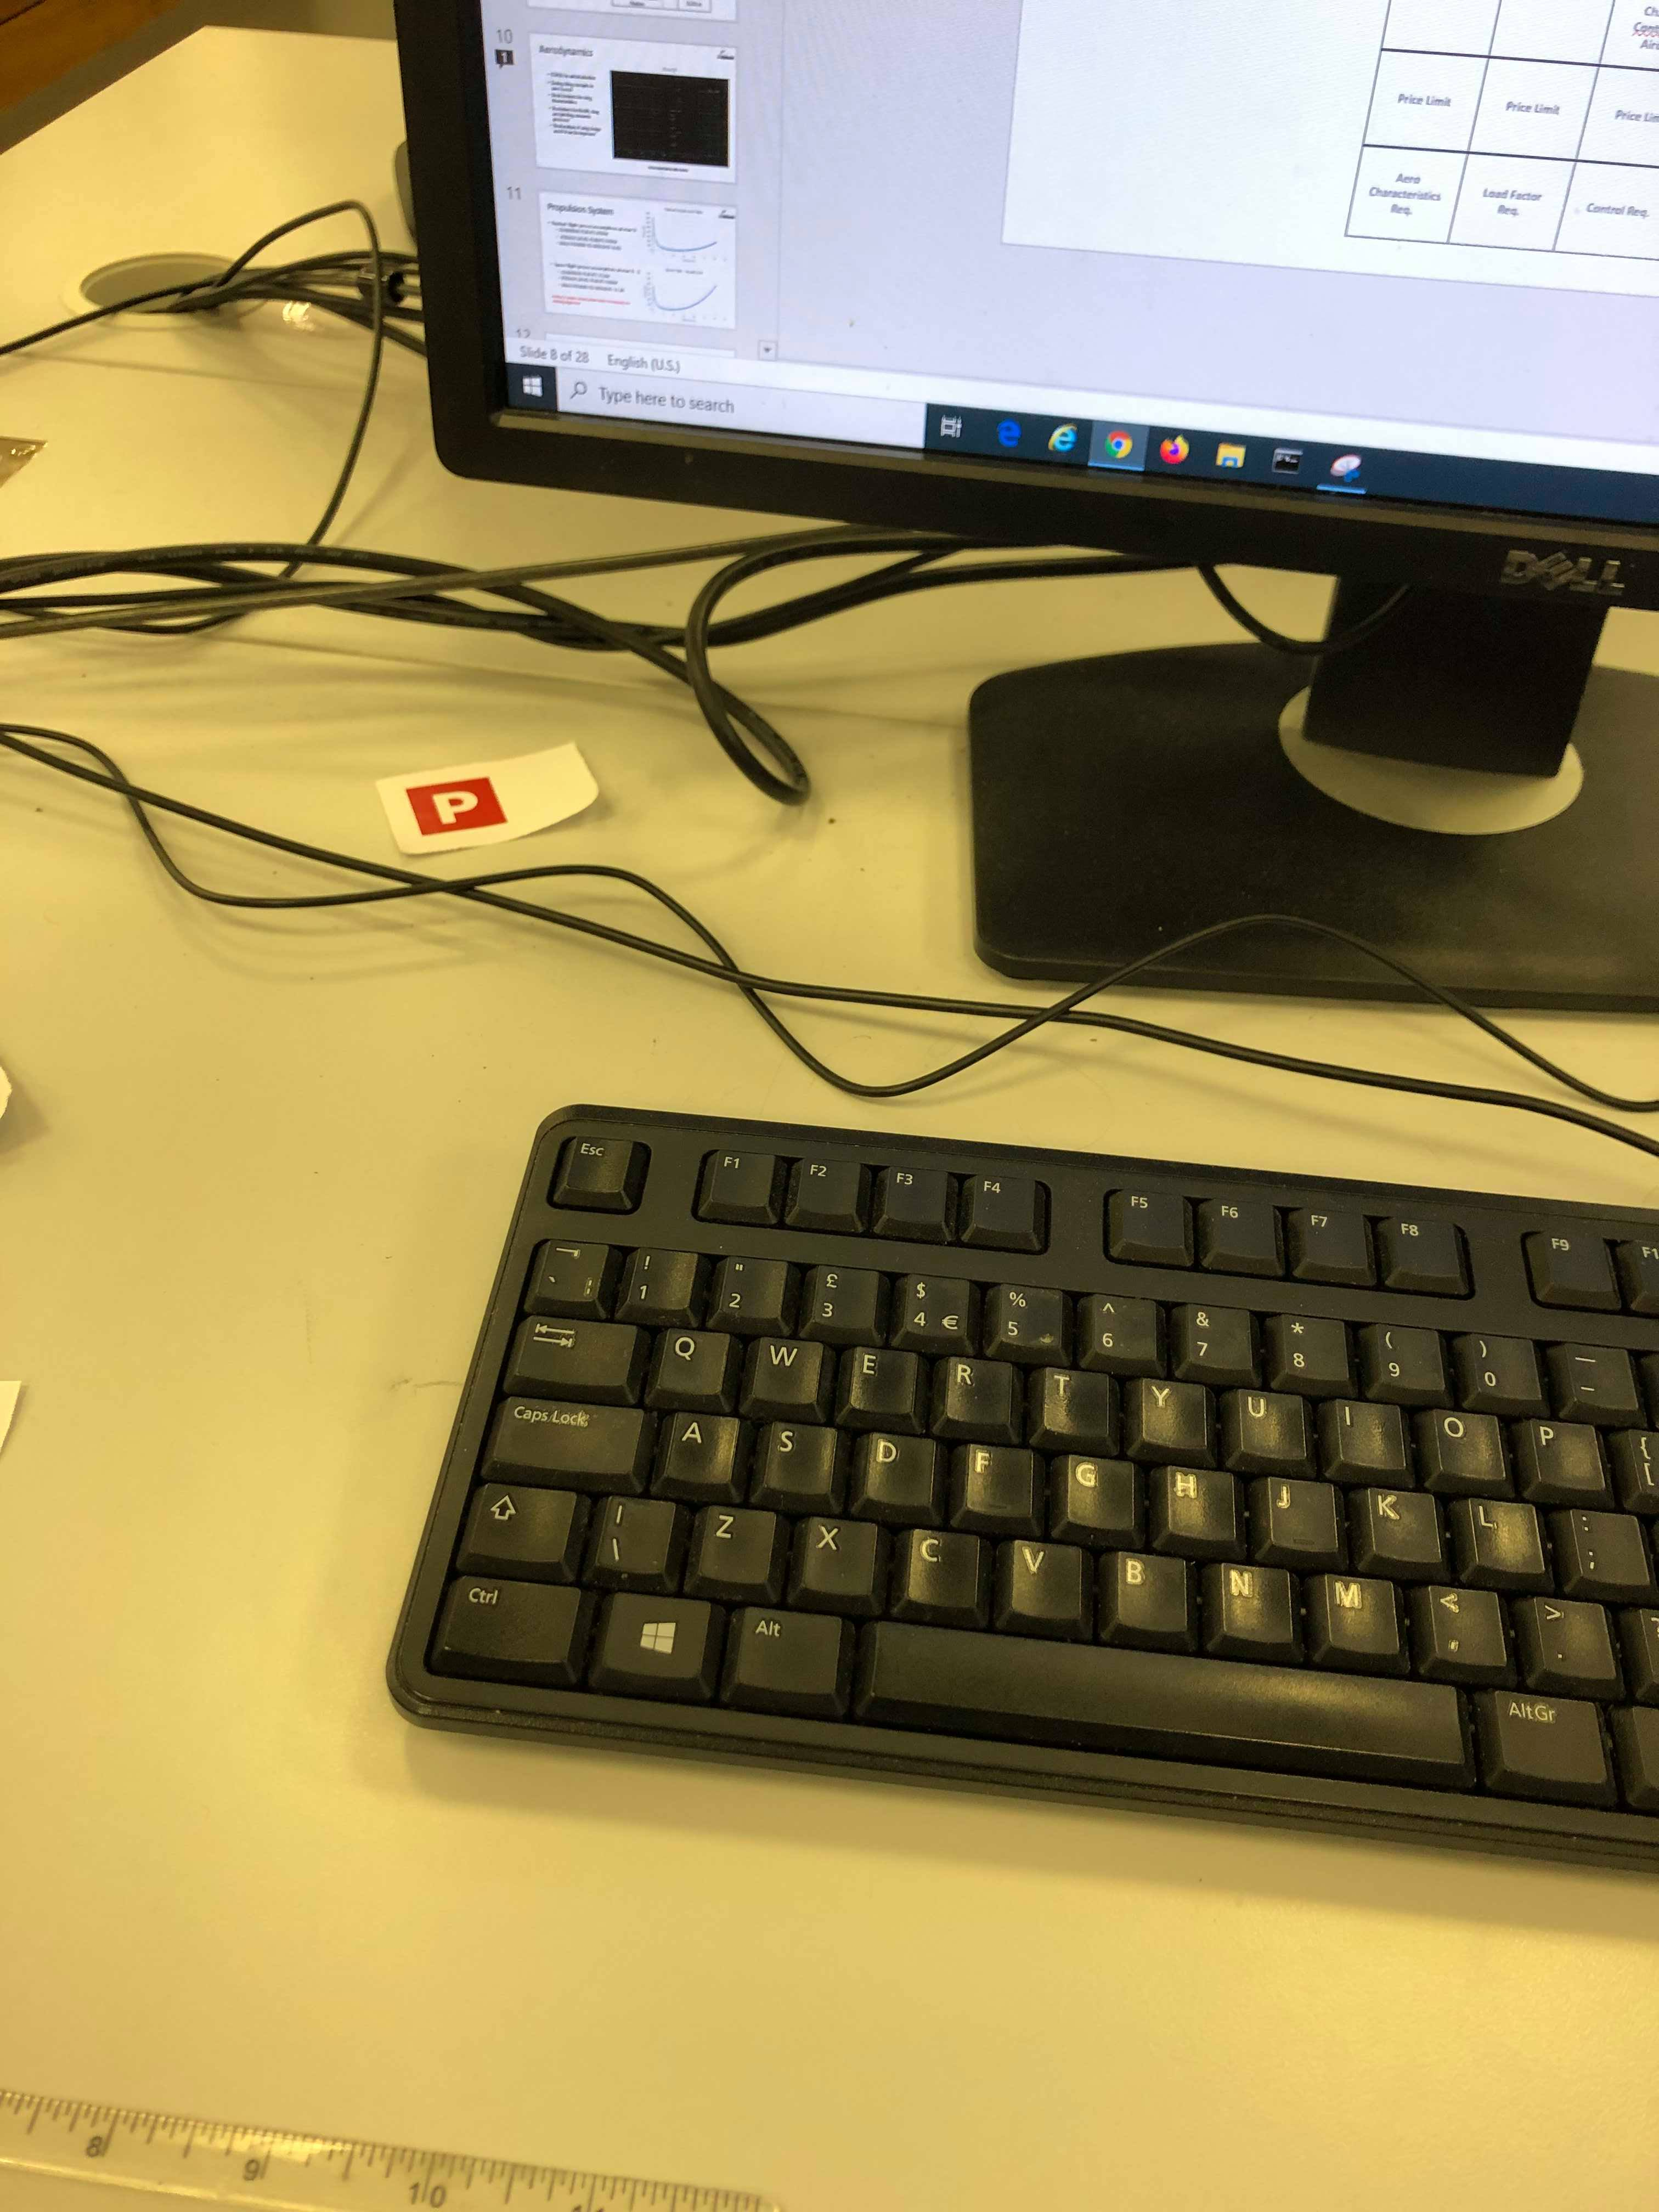marker: (385, 752, 523, 862)
